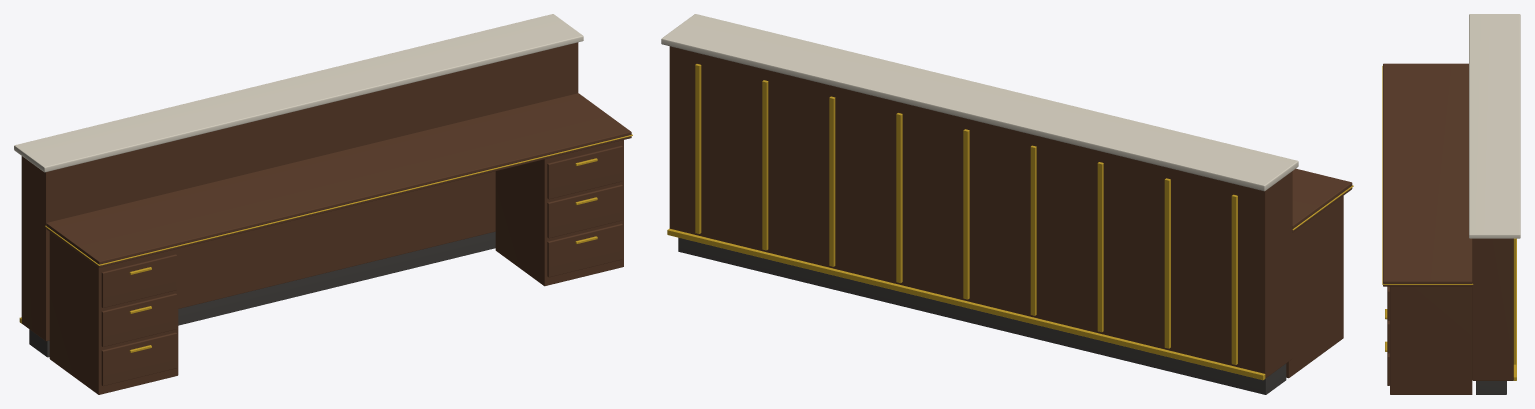
File: prop_reception_desk.glb
The picture shows the model from 3 angles, left to right: view 1: azimuth 30°, elevation 25°; view 2: azimuth 150°, elevation 25°; view 3: azimuth 270°, elevation 25°; orthographic projection. The views are drawn at different scales.
Parts seen in each view (by area): view 1: Desk; view 2: Desk; view 3: Desk.
Boxes of the visible parts, x1,y1,x2,y2 form: Desk: (14,14,632,394); Desk: (661,14,1353,394); Desk: (1382,14,1520,394).
Size of what is drawn, in the model's own units: 3.04 by 1.05 by 0.804.
